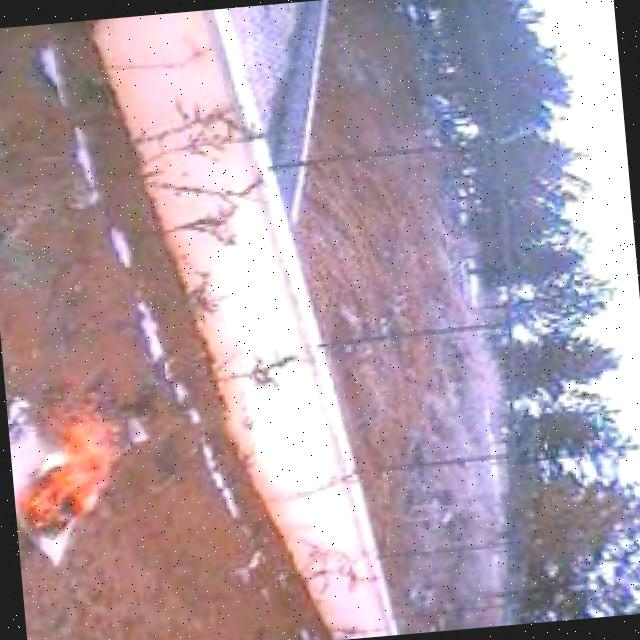fire: (4, 371, 138, 545)
